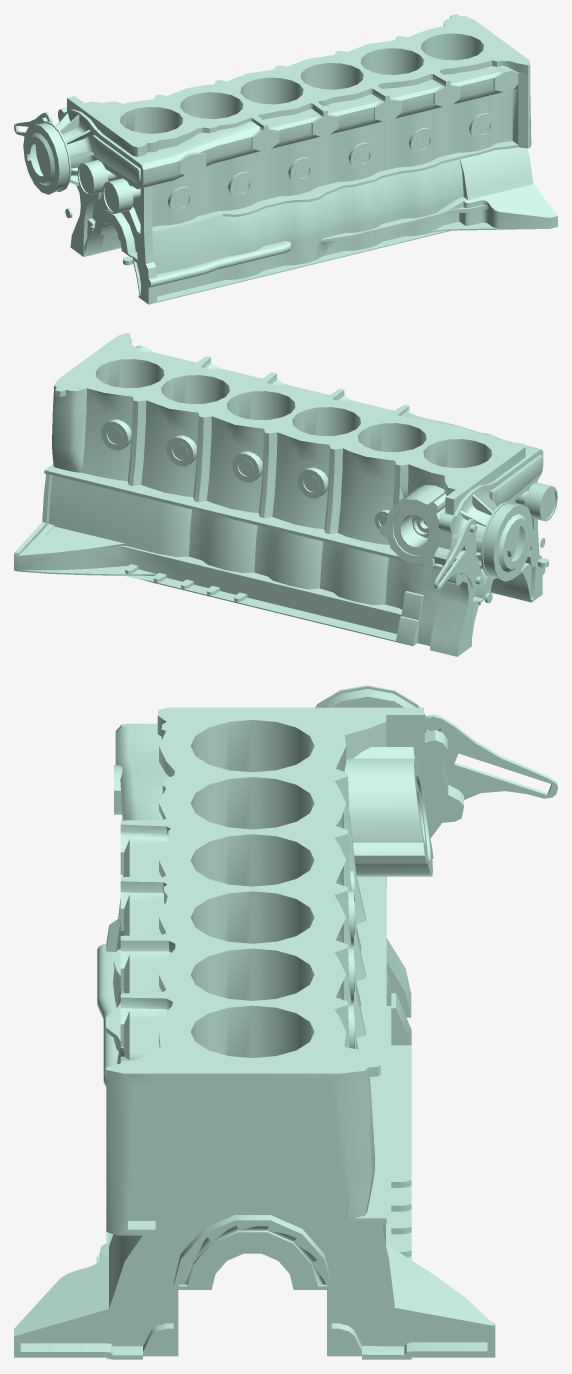
The picture shows the model from 3 angles, top to bottom: view 1: azimuth 30°, elevation 25°; view 2: azimuth 150°, elevation 25°; view 3: azimuth 270°, elevation 25°; orthographic projection. The views are drawn at different scales.
Parts seen in each view (by area): view 1: rb26_stock_reference.001_rb26_stock_reference.001_rb26_stoc.005; view 2: rb26_stock_reference.001_rb26_stock_reference.001_rb26_stoc.005; view 3: rb26_stock_reference.001_rb26_stock_reference.001_rb26_stoc.005.
Part boxes in pixels (bbox=[...]): rb26_stock_reference.001_rb26_stock_reference.001_rb26_stoc.005: bbox=[14, 14, 557, 304]; rb26_stock_reference.001_rb26_stock_reference.001_rb26_stoc.005: bbox=[14, 333, 557, 656]; rb26_stock_reference.001_rb26_stock_reference.001_rb26_stoc.005: bbox=[14, 685, 557, 1359].
Size of the model in its own units: 41.17 by 13.39 by 23.09.
